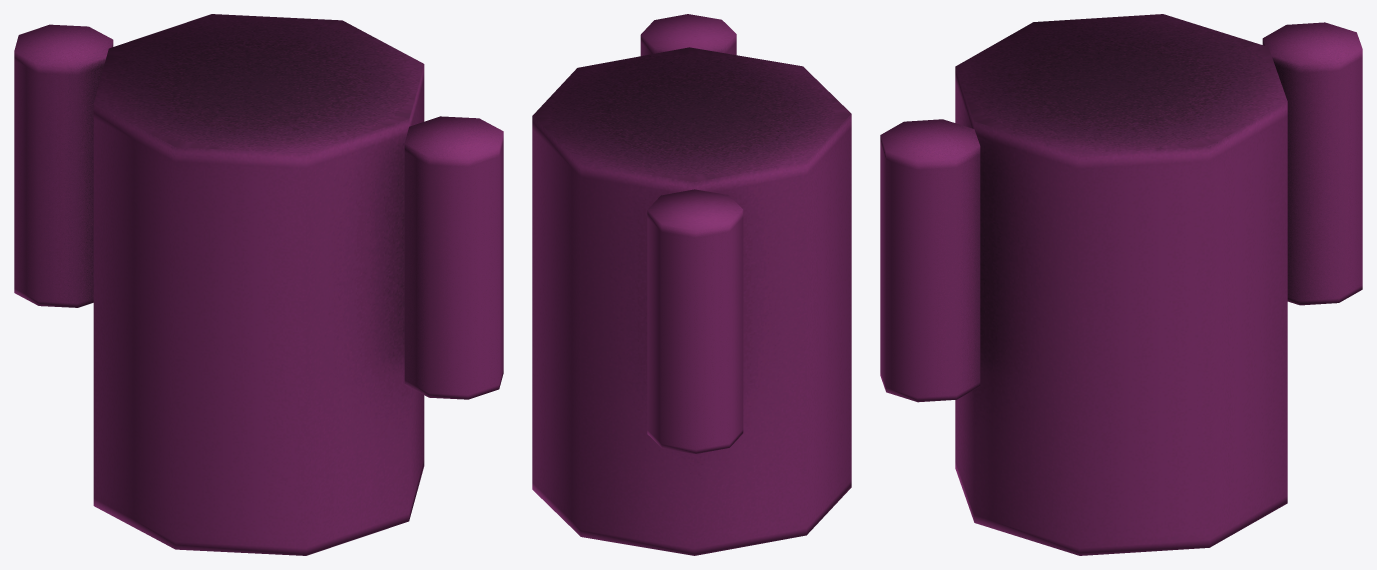
Rendered from Android_pink.dae.
The picture shows the model from 3 angles, left to right: view 1: azimuth 30°, elevation 25°; view 2: azimuth 150°, elevation 25°; view 3: azimuth 270°, elevation 25°; orthographic projection. The views are drawn at different scales.
Parts seen in each view (by area): view 1: Body, LeftHand, RightHand; view 2: Body, RightHand, LeftHand; view 3: Body, LeftHand, RightHand.
Part boxes in pixels (x1=…): Body: x1=93, y1=14, x2=424, y2=555; LeftHand: x1=404, y1=116, x2=503, y2=399; RightHand: x1=14, y1=24, x2=113, y2=307; Body: x1=532, y1=47, x2=851, y2=555; RightHand: x1=647, y1=189, x2=743, y2=453; LeftHand: x1=640, y1=14, x2=736, y2=55; Body: x1=955, y1=14, x2=1287, y2=555; LeftHand: x1=880, y1=119, x2=980, y2=402; RightHand: x1=1262, y1=22, x2=1362, y2=305.
Size of the model in its own units: 1.94 by 2.81 by 2.58.
1 material, 1 textured.
